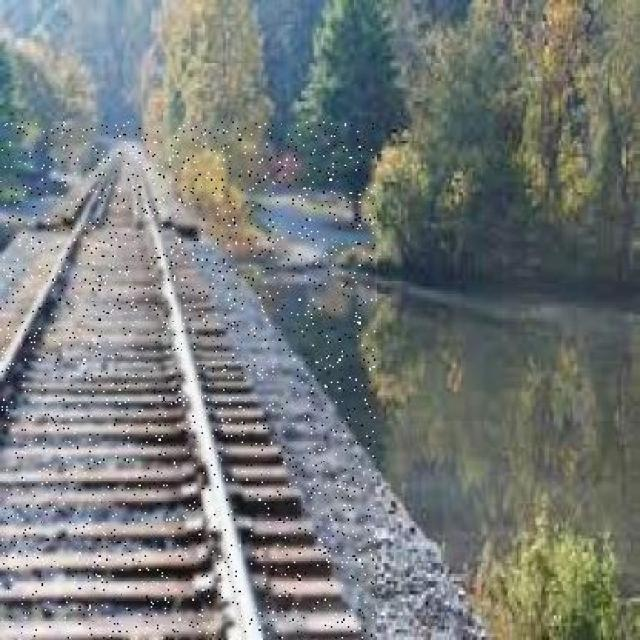rail: (1, 123, 376, 640)
